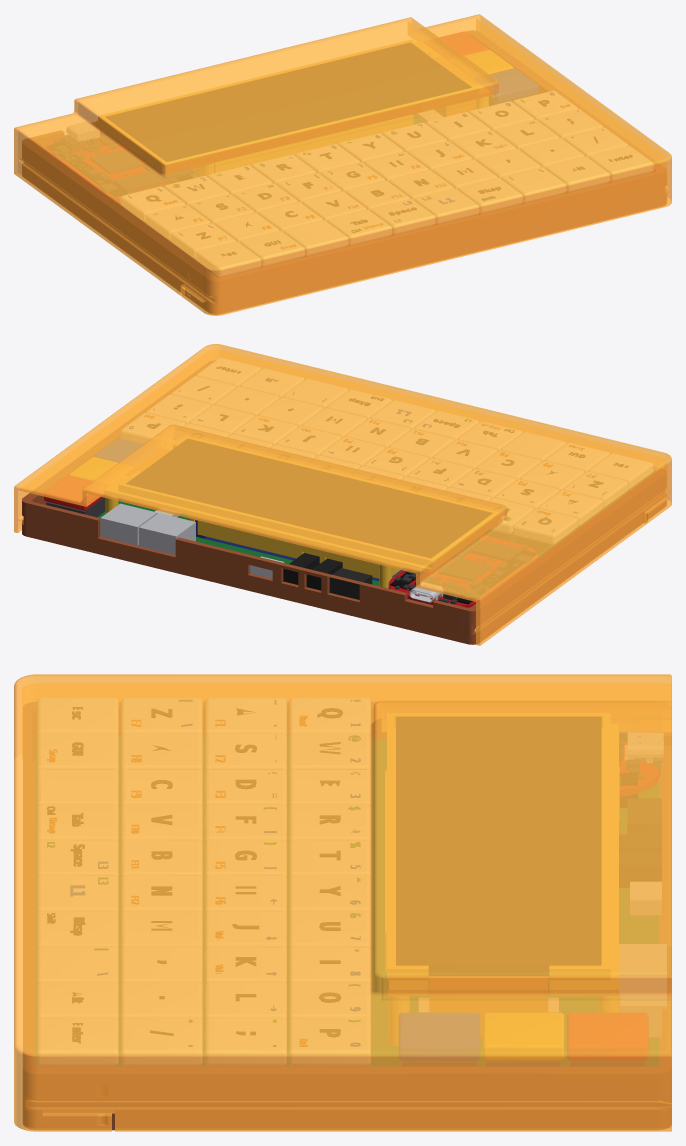
File: cover_sienna.glb
The picture shows the model from 3 angles, top to bottom: view 1: azimuth 30°, elevation 25°; view 2: azimuth 150°, elevation 25°; view 3: azimuth 270°, elevation 25°; orthographic projection. The views are drawn at different scales.
Parts seen in each view (by area): view 1: Lid, Internals, Tray; view 2: Lid, Internals, Tray; view 3: Lid, Internals, Tray.
Part boxes in pixels (x1,y1,x2,y2): Lid: (14,14,671,315); Internals: (45,32,652,276); Tray: (22,31,665,314); Lid: (14,344,671,645); Internals: (44,358,652,607); Tray: (22,361,665,644); Lid: (14,674,671,1131); Internals: (36,698,666,1065); Tray: (23,702,671,1130).
Size of the model in its own units: 0.1818 by 0.0232 by 0.133.
